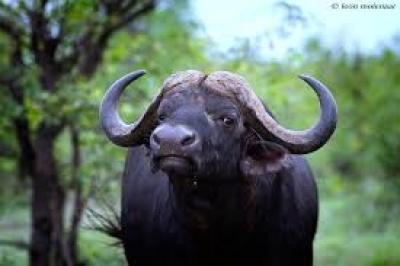buffalo: (100, 70, 336, 265)
